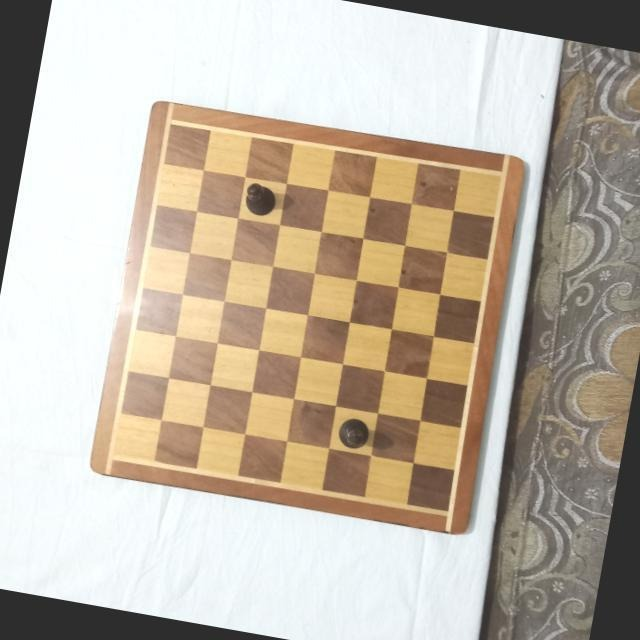black-bishop: (239, 177, 279, 218), (335, 413, 372, 451)
